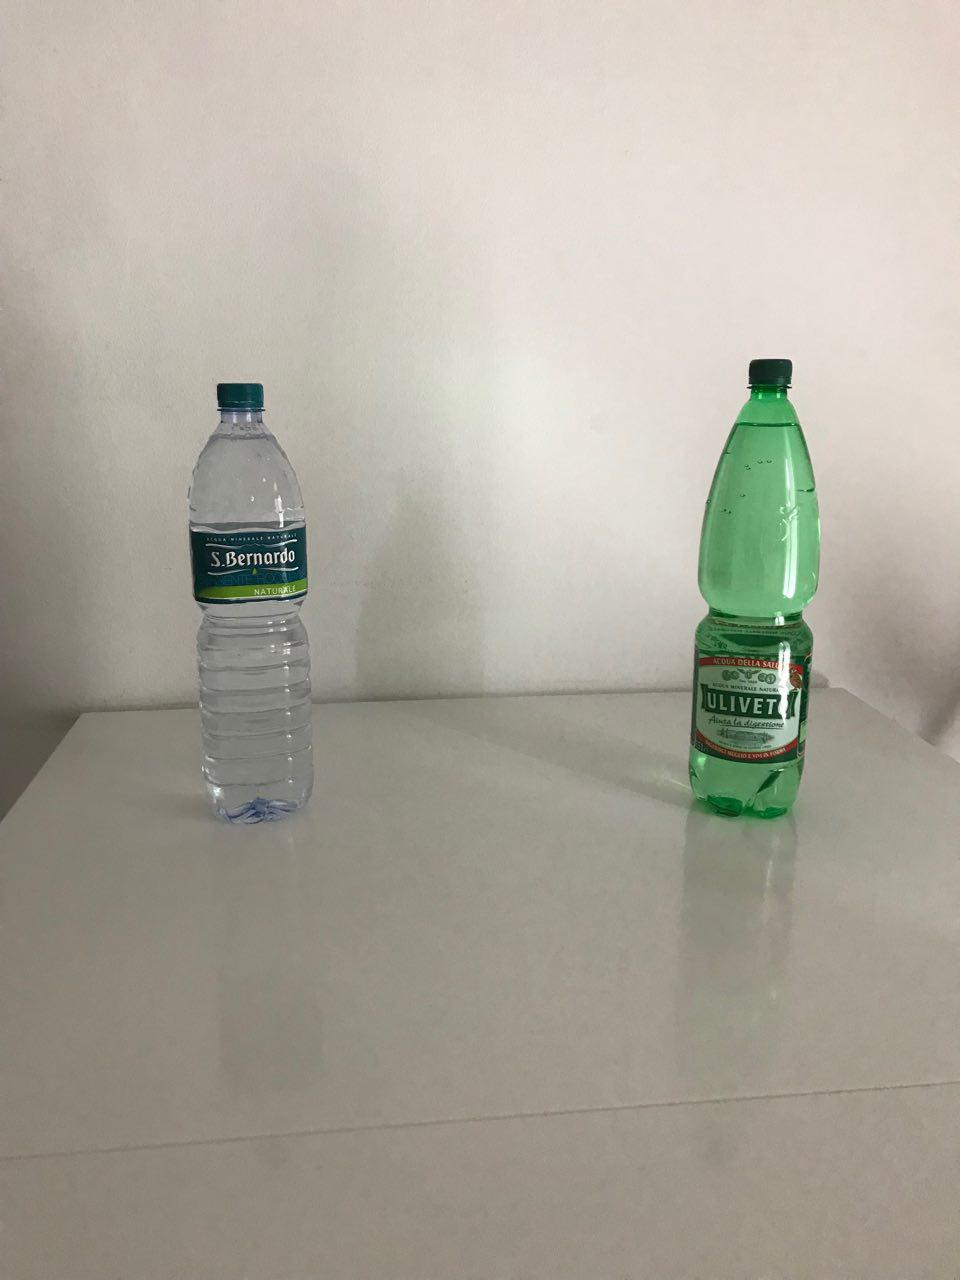san_bernardo: (186, 382, 315, 825)
